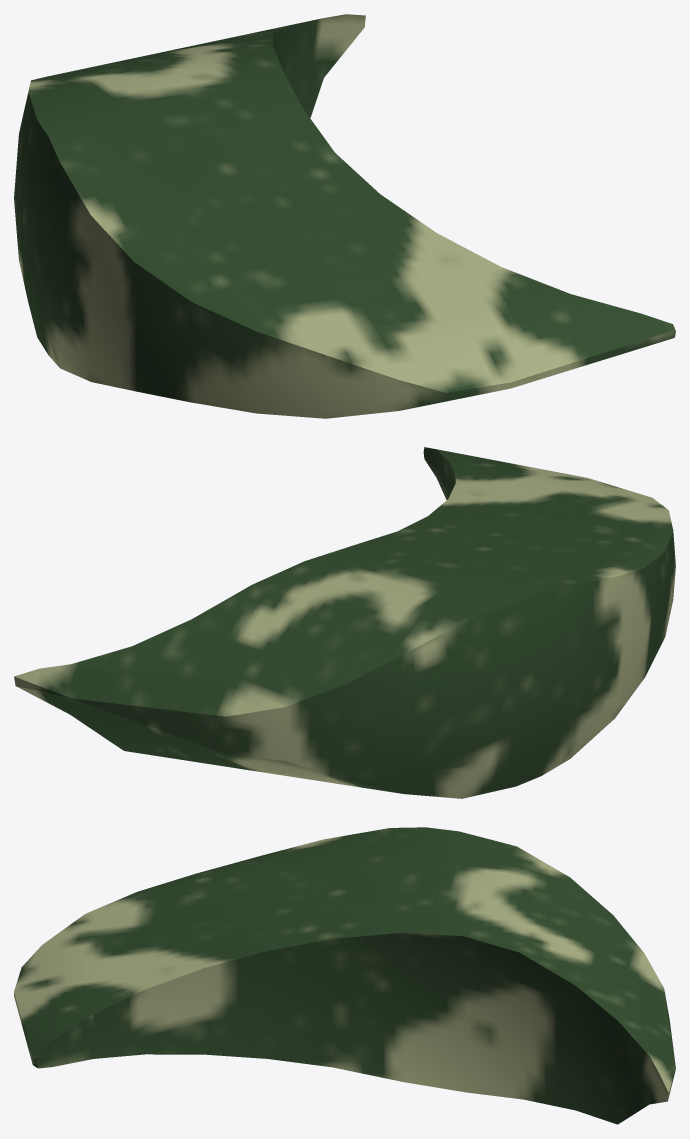
Rendered from link_body_30.obj.
The picture shows the model from 3 angles, top to bottom: view 1: azimuth 30°, elevation 25°; view 2: azimuth 150°, elevation 25°; view 3: azimuth 270°, elevation 25°; orthographic projection. The views are drawn at different scales.
Visible parts, largest first — view 1: link_body_30; view 2: link_body_30; view 3: link_body_30.
Boxes of the visible parts, x1=… form: link_body_30: x1=14, y1=14, x2=675, y2=418; link_body_30: x1=14, y1=447, x2=675, y2=798; link_body_30: x1=14, y1=827, x2=675, y2=1124.
Bounding box in the file's own units: 7.83 × 3.28 × 11.29.
